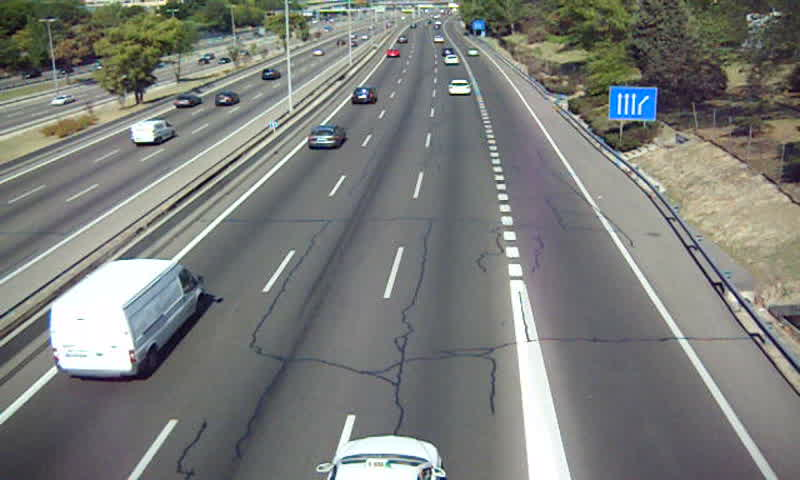car: (307, 126, 347, 149), (351, 86, 377, 105), (446, 78, 473, 96), (442, 54, 462, 66), (386, 48, 404, 59)
van: (49, 259, 202, 379)
